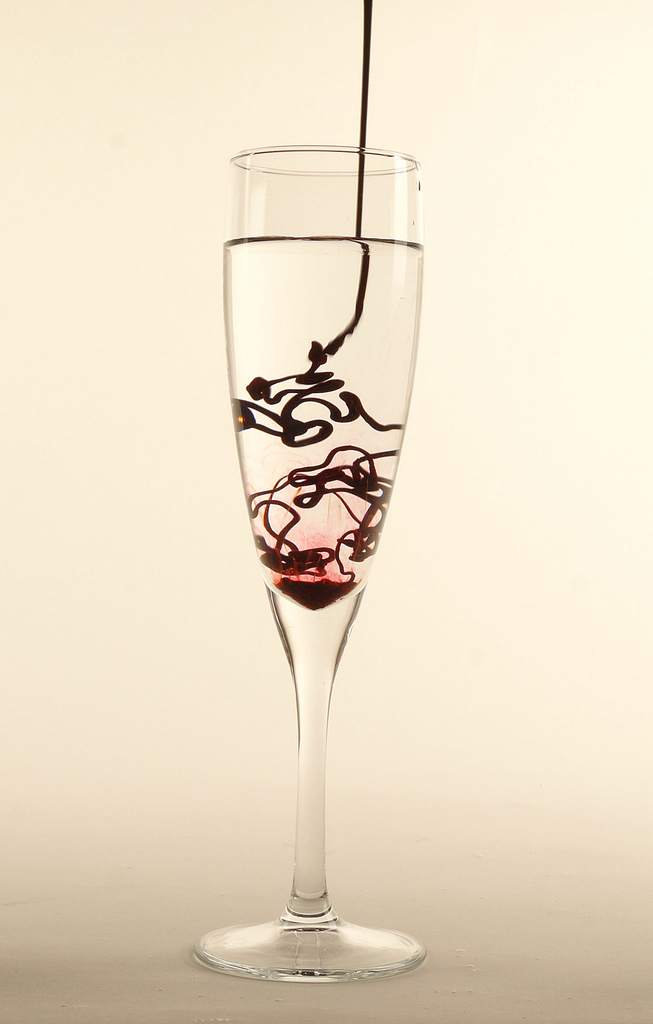glass of water: (207, 146, 413, 971)
